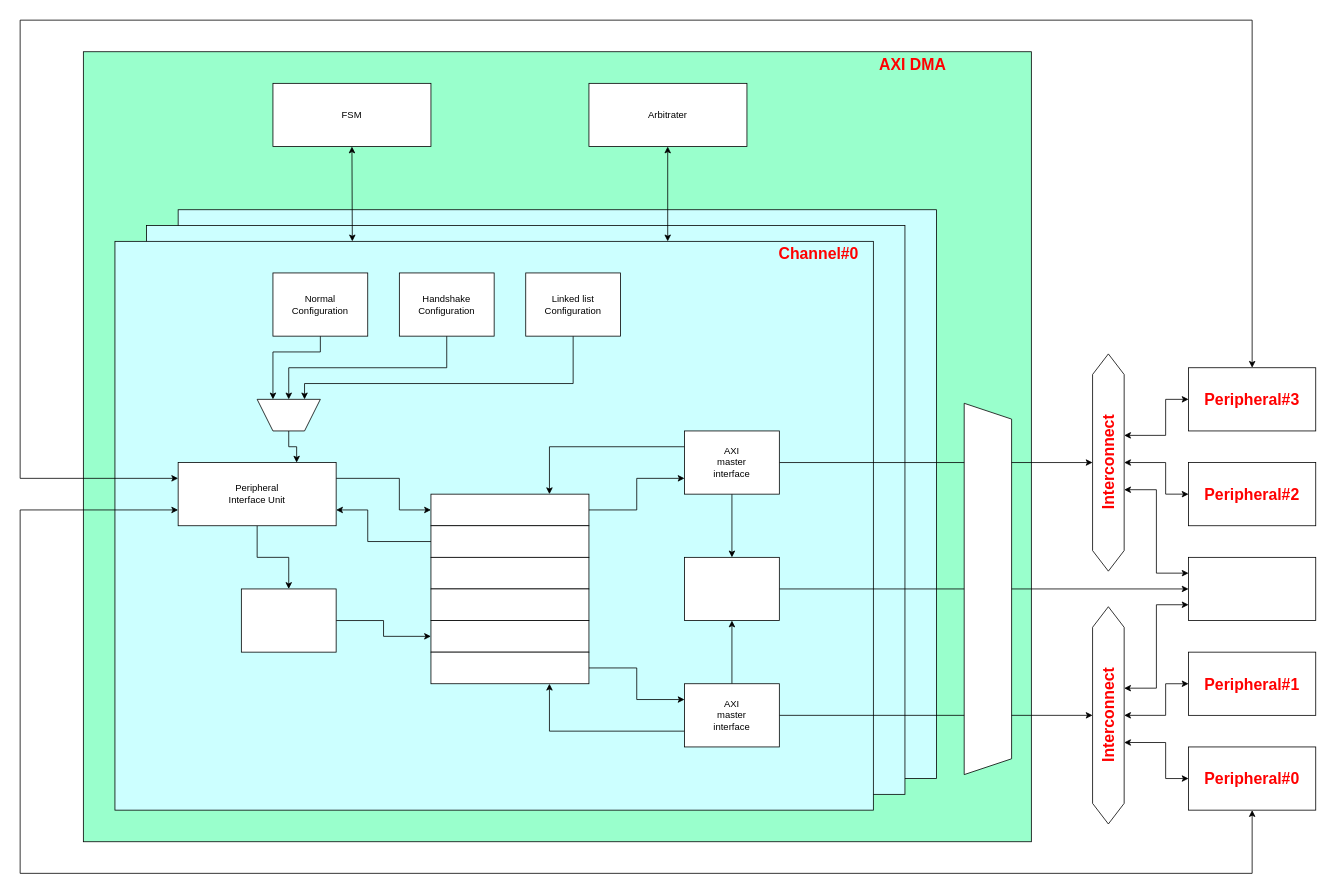
The diagram is 1330 pixels wide and 894 high, and some of its shapes have lost their labels. Each missing label, with the centre of its shape:
Address generation Unit: [288,620]
AXI: [987,589]
CPU: [1252,589]
FIFO: [509,509]
Interrupt Error Unit: [731,589]
